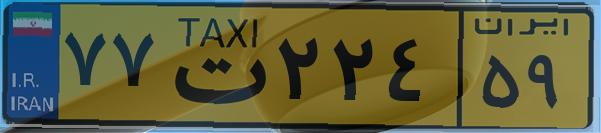2: (270, 28, 330, 110), (330, 28, 385, 110)
4: (385, 28, 445, 110)
5: (475, 38, 525, 113)
7: (57, 26, 110, 100), (110, 28, 158, 98)
9: (525, 38, 570, 115)
ت: (158, 12, 270, 120)
